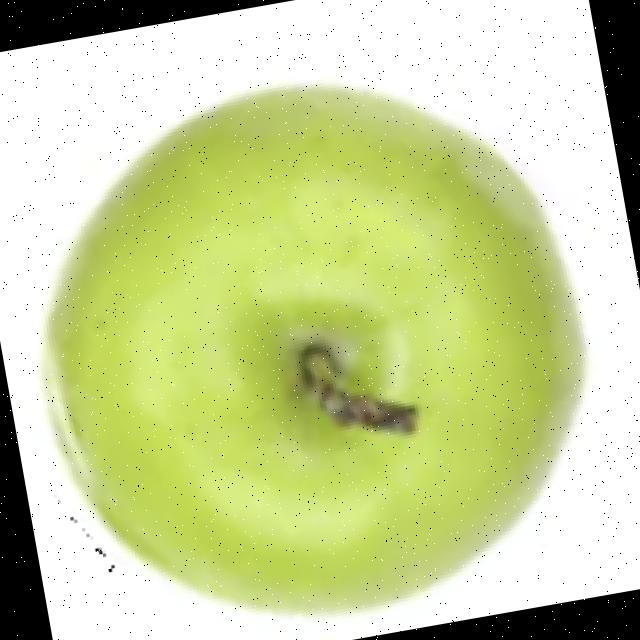apple: (35, 75, 594, 621)
